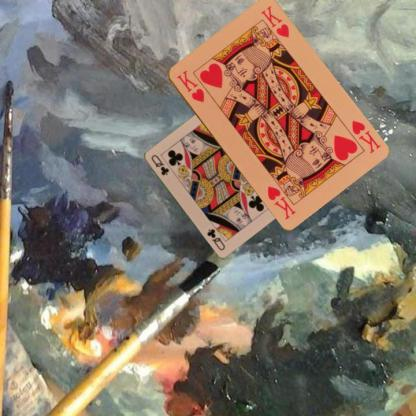Kh: (348, 118, 382, 156), (174, 67, 206, 104)
Qc: (148, 152, 171, 177)
